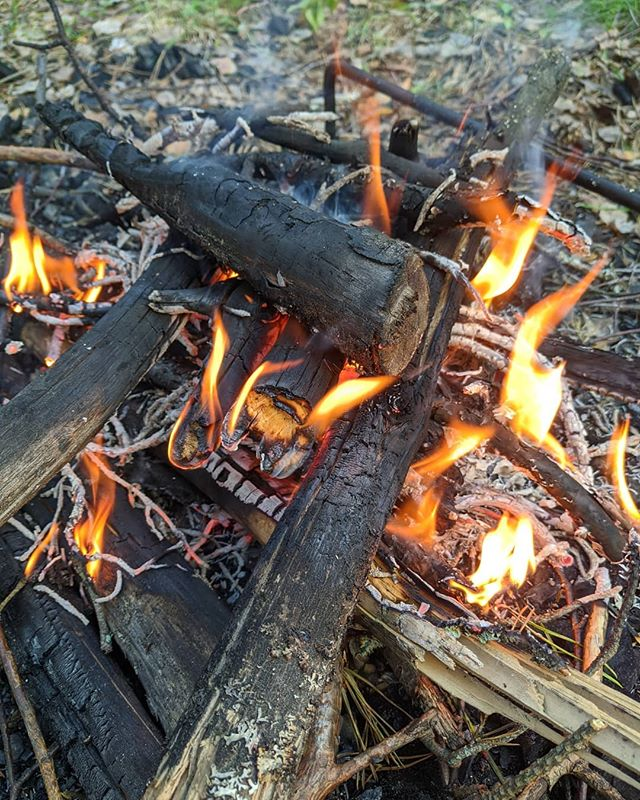fireplace: (51, 115, 640, 769)
